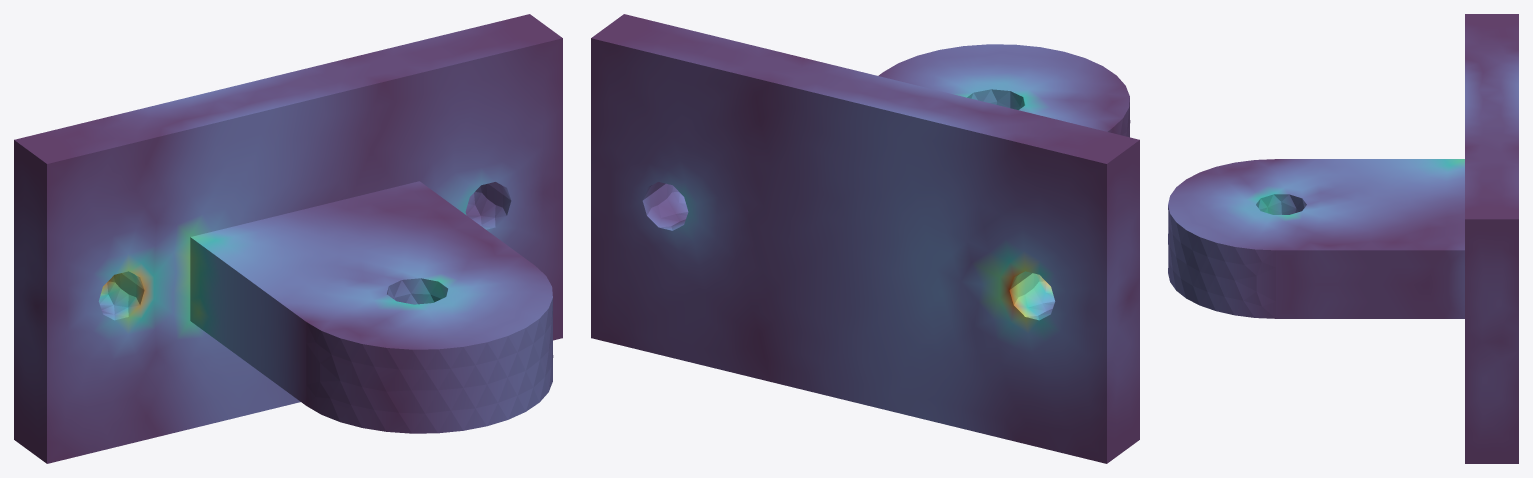
The model's file is CAD_SEAT-FIT.glb.
3 renders of one model, left to right at view 1: azimuth 30°, elevation 25°; view 2: azimuth 150°, elevation 25°; view 3: azimuth 270°, elevation 25°, orthographic. The views are drawn at different scales.
Visible parts, largest first — view 1: geometry_0; view 2: geometry_0; view 3: geometry_0.
Boxes of the visible parts, box(x1,y1,x2,y2) form: geometry_0: box(14, 14, 562, 463); geometry_0: box(591, 14, 1139, 463); geometry_0: box(1168, 14, 1518, 463).
Size of the model in its own units: 0.09 by 0.05 by 0.065.
